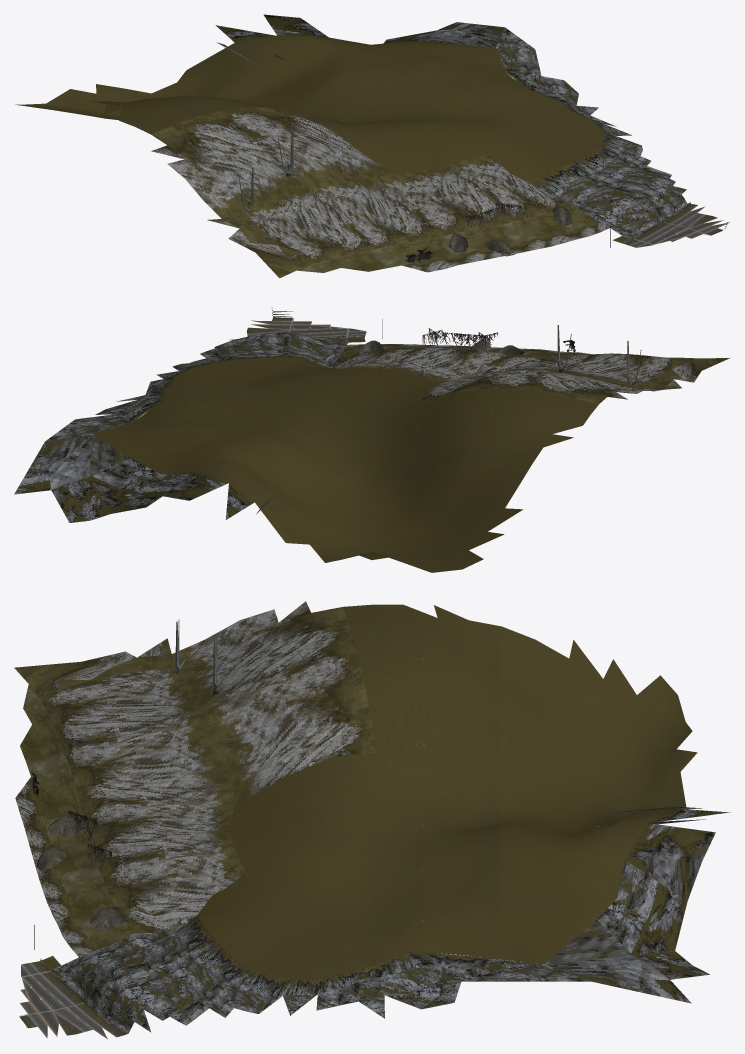
Rendered from world_camden_13_-9.gltf.
3 renders of one model, top to bottom at view 1: azimuth 30°, elevation 25°; view 2: azimuth 150°, elevation 25°; view 3: azimuth 270°, elevation 25°, orthographic. The views are drawn at different scales.
Size of the model in its own units: 271 by 73.65 by 277.
Materials: 26 (26 with a texture image).
